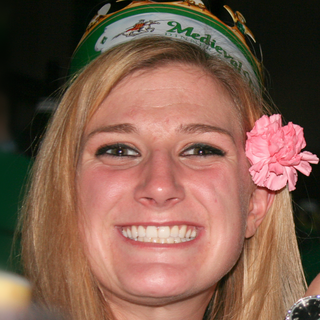eye: (92, 139, 142, 164), (176, 139, 227, 163)
